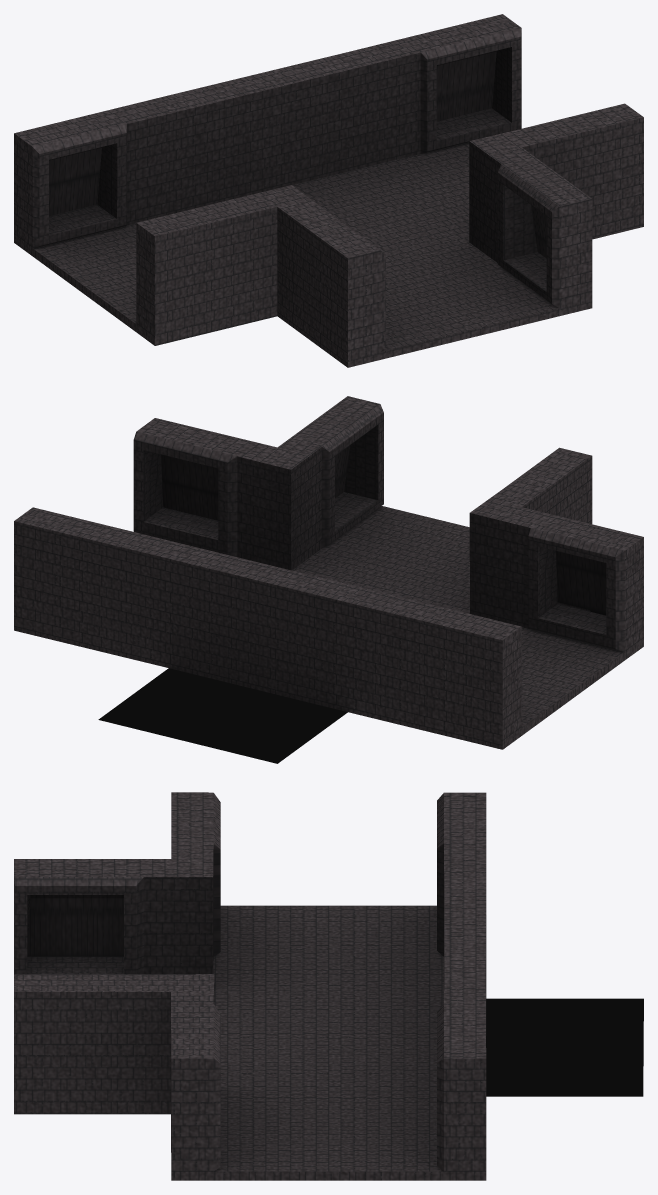
The model's file is Irb_CryptTri.obj.
The picture shows the model from 3 angles, top to bottom: view 1: azimuth 30°, elevation 25°; view 2: azimuth 150°, elevation 25°; view 3: azimuth 270°, elevation 25°; orthographic projection. The views are drawn at different scales.
Visible parts, largest first — view 1: Crypt; view 2: Crypt; view 3: Crypt.
Part boxes in pixels (x1=…): Crypt: x1=14, y1=14, x2=643, y2=367; Crypt: x1=14, y1=396, x2=643, y2=763; Crypt: x1=14, y1=792, x2=643, y2=1180.
Size of the model in its own units: 1024 by 219 by 1025.
Materials: 2 (1 with a texture image).
